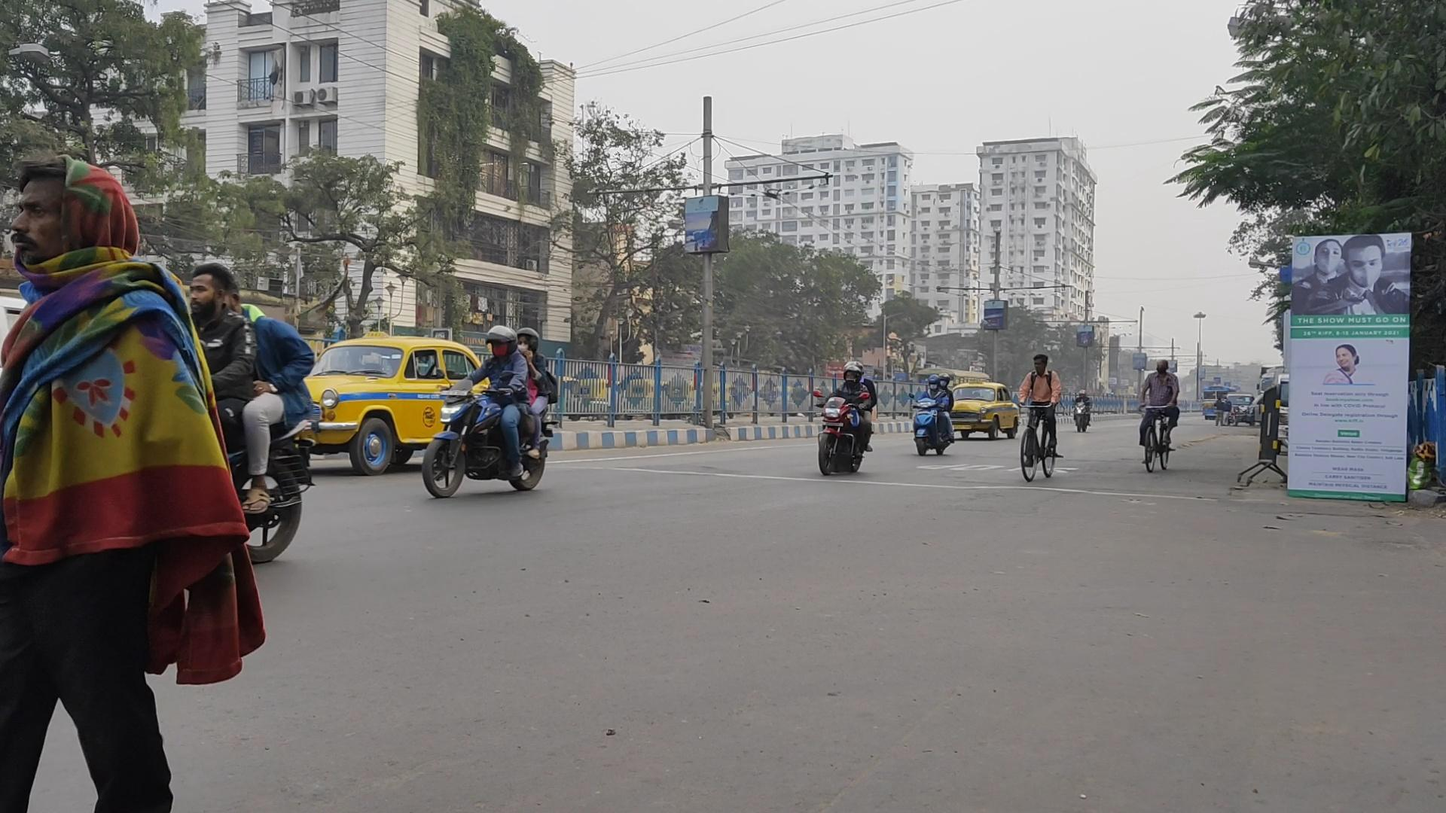Bus: (1201, 385, 1239, 421)
bike: (157, 263, 315, 566), (423, 325, 559, 498), (813, 361, 877, 476), (1018, 355, 1064, 482), (1138, 358, 1180, 473), (909, 373, 956, 456), (1072, 389, 1093, 433)
car: (291, 332, 508, 476), (944, 379, 1020, 441), (1226, 391, 1255, 426)
